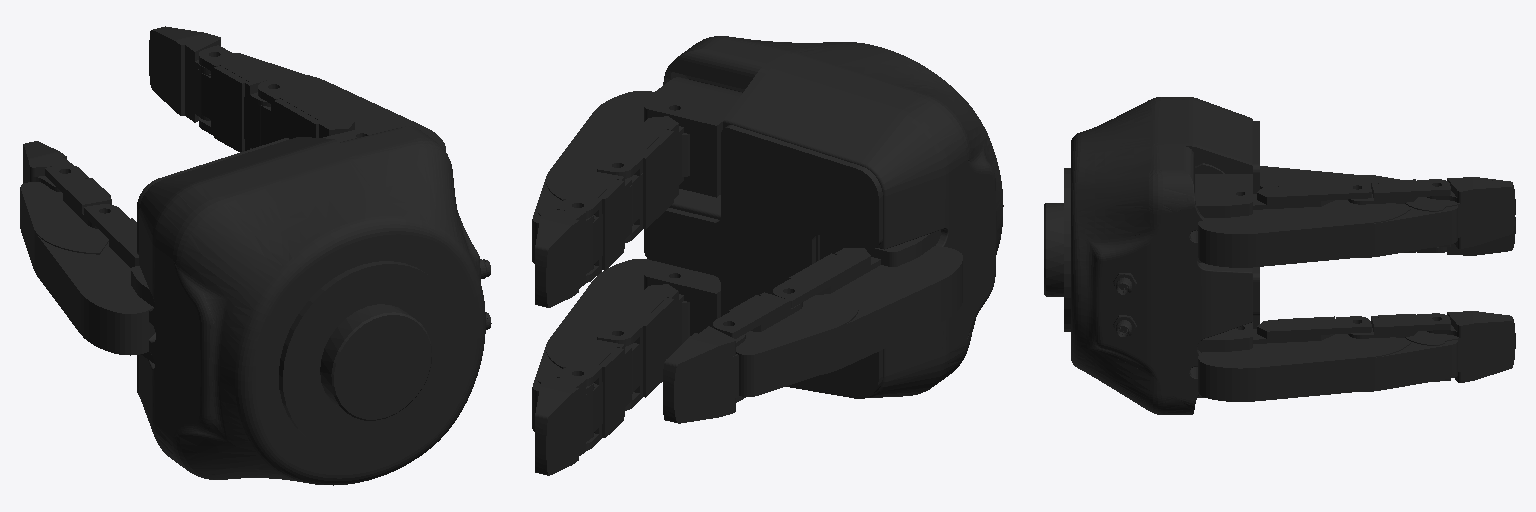
--- Facts derived from the render (not from the file) ---
Views: 3 orthographic renders of the robot side by side, from view 1: azimuth 30°, elevation 25°; view 2: azimuth 150°, elevation 25°; view 3: azimuth 270°, elevation 25°.
Model robot with 24 links and 23 joints (17 revolute, 6 fixed), rooted at base_link, posed joints at zero except 6 at the middle of their limits (finger_1_joint_1 = 0.6357, finger_1_joint_3 = -0.637, finger_2_joint_1 = 0.6357, finger_2_joint_3 = -0.637, finger_middle_joint_1 = 0.6357, finger_middle_joint_3 = -0.637).
Visible links, largest first — view 1: palm, finger_middle_link_1, finger_2_link_1, finger_middle_link_2, finger_2_link_2, finger_2_link_3, finger_middle_link_3, finger_middle_link_0; view 2: palm, finger_middle_link_1, finger_2_link_1, finger_1_link_1, finger_middle_link_2, finger_middle_link_3, finger_2_link_0, finger_2_link_3, finger_1_link_3, finger_2_link_2, finger_1_link_2, finger_1_link_0 (+1 smaller); view 3: palm, finger_1_link_1, finger_2_link_1, finger_1_link_2, finger_2_link_2, finger_1_link_3, finger_2_link_3, finger_2_link_0, finger_middle_link_1, finger_1_link_0, finger_middle_link_3, finger_middle_link_2.
Link boxes in pixels (x1,y1,x2,y2): palm: [137, 126, 491, 485]; finger_middle_link_1: [36, 204, 155, 355]; finger_2_link_1: [258, 71, 445, 150]; finger_middle_link_2: [20, 164, 111, 275]; finger_2_link_2: [199, 45, 301, 151]; finger_2_link_3: [149, 26, 259, 122]; finger_middle_link_3: [23, 141, 72, 191]; finger_middle_link_0: [131, 266, 155, 363]; palm: [644, 36, 1003, 398]; finger_middle_link_1: [773, 246, 962, 374]; finger_2_link_1: [546, 91, 689, 242]; finger_1_link_1: [546, 259, 689, 410]; finger_middle_link_2: [713, 292, 858, 402]; finger_middle_link_3: [663, 326, 745, 423]; finger_2_link_0: [644, 77, 742, 197]; finger_2_link_3: [535, 201, 594, 307]; finger_1_link_3: [535, 369, 594, 475]; finger_2_link_2: [532, 171, 632, 282]; finger_1_link_2: [532, 339, 632, 450]; finger_1_link_0: [644, 261, 720, 335]; palm: [1044, 97, 1259, 414]; finger_1_link_1: [1198, 316, 1410, 401]; finger_2_link_1: [1198, 182, 1410, 267]; finger_1_link_2: [1348, 313, 1457, 391]; finger_2_link_2: [1348, 179, 1457, 257]; finger_1_link_3: [1405, 311, 1515, 382]; finger_2_link_3: [1405, 177, 1515, 248]; finger_2_link_0: [1190, 174, 1252, 262]; finger_middle_link_1: [1260, 166, 1370, 188]; finger_1_link_0: [1190, 322, 1252, 397]; finger_middle_link_3: [1447, 217, 1515, 255]; finger_middle_link_2: [1322, 175, 1446, 252].
Bounding box of the posed robot: 0.1575 × 0.2291 × 0.1302 m (x, y, z).
13 mesh visuals loaded from 12 distinct referenced files (5 Collada DAE); not drawn: 7 (reference not matched to a file when rendering).

robot.urdf — robot:
<?xml version="1.0" ?>
<!-- =================================================================================== -->
<!-- |    This document was autogenerated by xacro from test.xacro                     | -->
<!-- |    EDITING THIS FILE BY HAND IS NOT RECOMMENDED                                 | -->
<!-- =================================================================================== -->
<robot>
  <!-- Custom mix of ur5e robot and robotiq 3f gripper for Webots.
      Based on https://github.com/UniversalRobots/Universal_Robots_ROS2_Driver
      and https://github.com/ros-industrial/robotiq.
    -->
  <webots>
    <plugin type="webots_ros2_control::Ros2Control"/>
  </webots>
  <!--
    NOTE the macro defined in this file is NOT part of the public API of this
          package. Users CANNOT rely on this file being available, or stored in
          this location. Nor can they rely on the existence of the macro.
  -->
  <!-- Data files required by the UR driver -->
  <ros2_control name="WebotsControl" type="system">
    <hardware>
      <plugin>webots_ros2_control::Ros2ControlSystem</plugin>
    </hardware>
    <joint name="shoulder_pan_joint">
      <command_interface name="position">
        </command_interface>
      <state_interface name="position"/>
      <state_interface name="velocity"/>
      <state_interface name="effort"/>
      <param name="initial_position">0.0</param>
      <!-- initial position for the FakeSystem -->
    </joint>
    <joint name="shoulder_lift_joint">
      <command_interface name="position">
        </command_interface>
      <state_interface name="position"/>
      <state_interface name="velocity"/>
      <state_interface name="effort"/>
      <param name="initial_position">-1.57</param>
      <!-- initial position for the FakeSystem -->
    </joint>
    <joint name="elbow_joint">
      <command_interface name="position">
        </command_interface>
      <state_interface name="position"/>
      <state_interface name="velocity"/>
      <state_interface name="effort"/>
      <param name="initial_position">0.0</param>
      <!-- initial position for the FakeSystem -->
    </joint>
    <joint name="wrist_1_joint">
      <command_interface name="position">
        </command_interface>
      <state_interface name="position"/>
      <state_interface name="velocity"/>
      <state_interface name="effort"/>
      <param name="initial_position">-1.57</param>
      <!-- initial position for the FakeSystem -->
    </joint>
    <joint name="wrist_2_joint">
      <command_interface name="position">
        </command_interface>
      <state_interface name="position"/>
      <state_interface name="velocity"/>
      <state_interface name="effort"/>
      <param name="initial_position">0.0</param>
      <!-- initial position for the FakeSystem -->
    </joint>
    <joint name="wrist_3_joint">
      <command_interface name="position">
        </command_interface>
      <state_interface name="position"/>
      <state_interface name="velocity"/>
      <state_interface name="effort"/>
      <param name="initial_position">0.0</param>
      <!-- initial position for the FakeSystem -->
    </joint>
    <sensor name="tcp_fts_sensor">
      <state_interface name="force.x"/>
      <state_interface name="force.y"/>
      <state_interface name="force.z"/>
      <state_interface name="torque.x"/>
      <state_interface name="torque.y"/>
      <state_interface name="torque.z"/>
    </sensor>
    <!-- ROBOTIQ 3F Gripper -->
    <joint name="palm_finger_1_joint">
      <state_interface name="position"/>
      <command_interface name="position"/>
    </joint>
    <joint name="finger_1_joint_1">
      <state_interface name="position"/>
      <command_interface name="position"/>
    </joint>
    <joint name="finger_1_joint_2">
      <state_interface name="position"/>
      <command_interface name="position"/>
    </joint>
    <joint name="finger_1_joint_3">
      <state_interface name="position"/>
      <command_interface name="position"/>
    </joint>
    <joint name="palm_finger_2_joint">
      <state_interface name="position"/>
      <command_interface name="position"/>
    </joint>
    <joint name="finger_2_joint_1">
      <state_interface name="position"/>
      <command_interface name="position"/>
    </joint>
    <joint name="finger_2_joint_2">
      <state_interface name="position"/>
      <command_interface name="position"/>
    </joint>
    <joint name="finger_2_joint_3">
      <state_interface name="position"/>
      <command_interface name="position"/>
    </joint>
    <joint name="finger_middle_joint_1">
      <state_interface name="position"/>
      <command_interface name="position"/>
    </joint>
    <joint name="finger_middle_joint_2">
      <state_interface name="position"/>
      <command_interface name="position"/>
    </joint>
    <joint name="finger_middle_joint_3">
      <state_interface name="position"/>
      <command_interface name="position"/>
    </joint>
  </ros2_control>
  <!-- Add URDF transmission elements (for ros_control) -->
  <!--<xacro:ur_arm_transmission prefix="${prefix}" hw_interface="${transmission_hw_interface}" />-->
  <!-- Placeholder for ros2_control transmission which don't yet exist -->
  <!-- links -  main serial chain -->
  <link name="base_link"/>
  <link name="base_link_inertia">
    <visual>
      <origin rpy="0 0 3.141592653589793" xyz="0 0 0"/>
      <geometry>
        <mesh filename="package://resource/Universal_Robots_ROS2_Driver/ur_description/meshes/ur5e/visual/base.dae"/>
      </geometry>
      <material name="LightGrey">
        <color rgba="0.7 0.7 0.7 1.0"/>
      </material>
    </visual>
    <collision>
      <origin rpy="0 0 3.141592653589793" xyz="0 0 0"/>
      <geometry>
        <mesh filename="package://resource/Universal_Robots_ROS2_Driver/ur_description/meshes/ur5e/collision/base.stl"/>
      </geometry>
    </collision>
    <inertial>
      <mass value="4.0"/>
      <origin rpy="0 0 0" xyz="0 0 0"/>
      <inertia ixx="0.00443333156" ixy="0.0" ixz="0.0" iyy="0.00443333156" iyz="0.0" izz="0.0072"/>
    </inertial>
  </link>
  <link name="shoulder_link">
    <visual>
      <origin rpy="0 0 3.141592653589793" xyz="0 0 0"/>
      <geometry>
        <mesh filename="package://resource/Universal_Robots_ROS2_Driver/ur_description/meshes/ur5e/visual/shoulder.dae"/>
      </geometry>
      <material name="LightGrey">
        <color rgba="0.7 0.7 0.7 1.0"/>
      </material>
    </visual>
    <collision>
      <origin rpy="0 0 3.141592653589793" xyz="0 0 0"/>
      <geometry>
        <mesh filename="package://resource/Universal_Robots_ROS2_Driver/ur_description/meshes/ur5e/collision/shoulder.stl"/>
      </geometry>
    </collision>
    <inertial>
      <mass value="3.7"/>
      <origin rpy="0 0 0" xyz="0 0 0"/>
      <inertia ixx="0.010267495893" ixy="0.0" ixz="0.0" iyy="0.010267495893" iyz="0.0" izz="0.00666"/>
    </inertial>
  </link>
  <link name="upper_arm_link">
    <visual>
      <origin rpy="1.5707963267948966 0 -1.5707963267948966" xyz="0 0 0.138"/>
      <geometry>
        <mesh filename="package://resource/Universal_Robots_ROS2_Driver/ur_description/meshes/ur5e/visual/upperarm.dae"/>
      </geometry>
      <material name="LightGrey">
        <color rgba="0.7 0.7 0.7 1.0"/>
      </material>
    </visual>
    <collision>
      <origin rpy="1.5707963267948966 0 -1.5707963267948966" xyz="0 0 0.138"/>
      <geometry>
        <mesh filename="package://resource/Universal_Robots_ROS2_Driver/ur_description/meshes/ur5e/collision/upperarm.stl"/>
      </geometry>
    </collision>
    <inertial>
      <mass value="8.393"/>
      <origin rpy="0 1.5707963267948966 0" xyz="-0.2125 0.0 0.138"/>
      <inertia ixx="0.1338857818623325" ixy="0.0" ixz="0.0" iyy="0.1338857818623325" iyz="0.0" izz="0.0151074"/>
    </inertial>
  </link>
  <link name="forearm_link">
    <visual>
      <origin rpy="1.5707963267948966 0 -1.5707963267948966" xyz="0 0 0.007"/>
      <geometry>
        <mesh filename="package://resource/Universal_Robots_ROS2_Driver/ur_description/meshes/ur5e/visual/forearm.dae"/>
      </geometry>
      <material name="LightGrey">
        <color rgba="0.7 0.7 0.7 1.0"/>
      </material>
    </visual>
    <collision>
      <origin rpy="1.5707963267948966 0 -1.5707963267948966" xyz="0 0 0.007"/>
      <geometry>
        <mesh filename="package://resource/Universal_Robots_ROS2_Driver/ur_description/meshes/ur5e/collision/forearm.stl"/>
      </geometry>
    </collision>
    <inertial>
      <mass value="2.275"/>
      <origin rpy="0 1.5707963267948966 0" xyz="-0.1961 0.0 0.007"/>
      <inertia ixx="0.031209355099586295" ixy="0.0" ixz="0.0" iyy="0.031209355099586295" iyz="0.0" izz="0.004095"/>
    </inertial>
  </link>
  <link name="wrist_1_link">
    <visual>
      <origin rpy="1.5707963267948966 0 0" xyz="0 0 -0.127"/>
      <geometry>
        <mesh filename="package://resource/Universal_Robots_ROS2_Driver/ur_description/meshes/ur5e/visual/wrist1.dae"/>
      </geometry>
      <material name="LightGrey">
        <color rgba="0.7 0.7 0.7 1.0"/>
      </material>
    </visual>
    <collision>
      <origin rpy="1.5707963267948966 0 0" xyz="0 0 -0.127"/>
      <geometry>
        <mesh filename="package://resource/Universal_Robots_ROS2_Driver/ur_description/meshes/ur5e/collision/wrist1.stl"/>
      </geometry>
    </collision>
    <inertial>
      <mass value="1.219"/>
      <origin rpy="0 0 0" xyz="0 0 0"/>
      <inertia ixx="0.0025598989760400002" ixy="0.0" ixz="0.0" iyy="0.0025598989760400002" iyz="0.0" izz="0.0021942"/>
    </inertial>
  </link>
  <link name="wrist_2_link">
    <visual>
      <origin rpy="0 0 0" xyz="0 0 -0.0997"/>
      <geometry>
        <mesh filename="package://resource/Universal_Robots_ROS2_Driver/ur_description/meshes/ur5e/visual/wrist2.dae"/>
      </geometry>
      <material name="LightGrey">
        <color rgba="0.7 0.7 0.7 1.0"/>
      </material>
    </visual>
    <collision>
      <origin rpy="0 0 0" xyz="0 0 -0.0997"/>
      <geometry>
        <mesh filename="package://resource/Universal_Robots_ROS2_Driver/ur_description/meshes/ur5e/collision/wrist2.stl"/>
      </geometry>
    </collision>
    <inertial>
      <mass value="1.219"/>
      <origin rpy="0 0 0" xyz="0 0 0"/>
      <inertia ixx="0.0025598989760400002" ixy="0.0" ixz="0.0" iyy="0.0025598989760400002" iyz="0.0" izz="0.0021942"/>
    </inertial>
  </link>
  <link name="wrist_3_link">
    <visual>
      <origin rpy="1.5707963267948966 0 0" xyz="0 0 -0.0989"/>
      <geometry>
        <mesh filename="package://resource/Universal_Robots_ROS2_Driver/ur_description/meshes/ur5e/visual/wrist3.dae"/>
      </geometry>
      <material name="LightGrey">
        <color rgba="0.7 0.7 0.7 1.0"/>
      </material>
    </visual>
    <collision>
      <origin rpy="1.5707963267948966 0 0" xyz="0 0 -0.0989"/>
      <geometry>
        <mesh filename="package://resource/Universal_Robots_ROS2_Driver/ur_description/meshes/ur5e/collision/wrist3.stl"/>
      </geometry>
    </collision>
    <inertial>
      <mass value="0.1879"/>
      <origin rpy="0 0 0" xyz="0.0 0.0 -0.0229"/>
      <inertia ixx="9.890410052167731e-05" ixy="0.0" ixz="0.0" iyy="9.890410052167731e-05" iyz="0.0" izz="0.0001321171875"/>
    </inertial>
  </link>
  <!-- joints - main serial chain -->
  <joint name="base_link-base_link_inertia" type="fixed">
    <parent link="base_link"/>
    <child link="base_link_inertia"/>
    <!-- 'base_link' is REP-103 aligned (so X+ forward), while the internal
           frames of the robot/controller have X+ pointing backwards.
           Use the joint between 'base_link' and 'base_link_inertia' (a dummy
           link/frame) to introduce the necessary rotation over Z (of pi rad).
      -->
    <origin rpy="0 0 3.141592653589793" xyz="0 0 0"/>
  </joint>
  <joint name="shoulder_pan_joint" type="revolute">
    <parent link="base_link_inertia"/>
    <child link="shoulder_link"/>
    <origin rpy="0 0 0" xyz="0 0 0.1625"/>
    <axis xyz="0 0 1"/>
    <limit effort="150.0" lower="-6.283185307179586" upper="6.283185307179586" velocity="3.141592653589793"/>
    <dynamics damping="0" friction="0"/>
  </joint>
  <joint name="shoulder_lift_joint" type="revolute">
    <parent link="shoulder_link"/>
    <child link="upper_arm_link"/>
    <origin rpy="1.570796327 0 0" xyz="0 0 0"/>
    <axis xyz="0 0 1"/>
    <limit effort="150.0" lower="-6.283185307179586" upper="6.283185307179586" velocity="3.141592653589793"/>
    <dynamics damping="0" friction="0"/>
  </joint>
  <joint name="elbow_joint" type="revolute">
    <parent link="upper_arm_link"/>
    <child link="forearm_link"/>
    <origin rpy="0 0 0" xyz="-0.425 0 0"/>
    <axis xyz="0 0 1"/>
    <limit effort="150.0" lower="-3.141592653589793" upper="3.141592653589793" velocity="3.141592653589793"/>
    <dynamics damping="0" friction="0"/>
  </joint>
  <joint name="wrist_1_joint" type="revolute">
    <parent link="forearm_link"/>
    <child link="wrist_1_link"/>
    <origin rpy="0 0 0" xyz="-0.3922 0 0.1333"/>
    <axis xyz="0 0 1"/>
    <limit effort="28.0" lower="-6.283185307179586" upper="6.283185307179586" velocity="3.141592653589793"/>
    <dynamics damping="0" friction="0"/>
  </joint>
  <joint name="wrist_2_joint" type="revolute">
    <parent link="wrist_1_link"/>
    <child link="wrist_2_link"/>
    <origin rpy="1.570796327 0 0" xyz="0 -0.0997 -2.044881182297852e-11"/>
    <axis xyz="0 0 1"/>
    <limit effort="28.0" lower="-6.283185307179586" upper="6.283185307179586" velocity="3.141592653589793"/>
    <dynamics damping="0" friction="0"/>
  </joint>
  <joint name="wrist_3_joint" type="revolute">
    <parent link="wrist_2_link"/>
    <child link="wrist_3_link"/>
    <origin rpy="1.570796326589793 3.141592653589793 3.141592653589793" xyz="0 0.0996 -2.042830148012698e-11"/>
    <axis xyz="0 0 1"/>
    <limit effort="28.0" lower="-6.283185307179586" upper="6.283185307179586" velocity="3.141592653589793"/>
    <dynamics damping="0" friction="0"/>
  </joint>
  <!-- ROS-Industrial 'base' frame - base_link to UR 'Base' Coordinates transform -->
  <link name="base"/>
  <joint name="base_link-base_fixed_joint" type="fixed">
    <!-- Note the rotation over Z of pi radians - as base_link is REP-103
           aligned (i.e., has X+ forward, Y+ left and Z+ up), this is needed
           to correctly align 'base' with the 'Base' coordinate system of
           the UR controller.
      -->
    <origin rpy="0 0 3.141592653589793" xyz="0 0 0"/>
    <parent link="base_link"/>
    <child link="base"/>
  </joint>
  <!-- ROS-Industrial 'flange' frame - attachment point for EEF models -->
  <link name="flange"/>
  <joint name="wrist_3-flange" type="fixed">
    <parent link="wrist_3_link"/>
    <child link="flange"/>
    <origin rpy="0 -1.5707963267948966 -1.5707963267948966" xyz="0 0 0"/>
  </joint>
  <!-- ROS-Industrial 'tool0' frame - all-zeros tool frame -->
  <link name="tool0"/>
  <joint name="flange-tool0" type="fixed">
    <!-- default toolframe - X+ left, Y+ up, Z+ front -->
    <origin rpy="1.5707963267948966 0 1.5707963267948966" xyz="0 0 0"/>
    <parent link="flange"/>
    <child link="tool0"/>
  </joint>
  <!-- link list -->
  <link name="finger_1_link_0">
    <visual>
      <origin rpy="0 0 0" xyz="0.020 0 0"/>
      <geometry>
        <mesh filename="package://resource/robotiq/robotiq_3f_gripper_visualization/meshes/robotiq-3f-gripper_articulated/visual/link_0.dae"/>
      </geometry>
      <material name="gray">
        <color rgba="0.2 0.2 0.2 1"/>
      </material>
    </visual>
    <collision>
      <origin rpy="0 0 0" xyz="0.020 0 0"/>
      <geometry>
        <mesh filename="package://resource/robotiq/robotiq_3f_gripper_visualization/meshes/robotiq-3f-gripper_articulated/collision/link_0.STL"/>
      </geometry>
      <material name="yellow">
        <color rgba="0 1 1 1"/>
      </material>
    </collision>
    <inertial>
      <origin rpy="0 0 0" xyz="0 0 0"/>
      <mass value="0.05"/>
      <inertia ixx="0.01" ixy="-0.00002" ixz="0.00001" iyy="0.0008" iyz="0" izz="0.001"/>
    </inertial>
  </link>
  <link name="finger_1_link_1">
    <visual>
      <origin rpy="0 0 -0.52" xyz="0.050 -.028 0"/>
      <geometry>
        <mesh filename="package://resource/robotiq/robotiq_3f_gripper_visualization/meshes/robotiq-3f-gripper_articulated/visual/link_1.dae"/>
      </geometry>
      <material name="gray"/>
    </visual>
    <collision>
      <origin rpy="0 0 -0.52" xyz="0.050 -.028 0"/>
      <geometry>
        <mesh filename="package://resource/robotiq/robotiq_3f_gripper_visualization/meshes/robotiq-3f-gripper_articulated/collision/link_1.STL"/>
      </geometry>
      <material name="yellow"/>
    </collision>
    <inertial>
      <origin rpy="0 0 0" xyz="0 0 0"/>
      <mass value="0.15"/>
      <inertia ixx="0.001859" ixy="-0.000376" ixz="0.000028" iyy="0.012756" iyz="0" izz="0.0024"/>
    </inertial>
  </link>
  <link name="finger_1_link_2">
    <!--
			NOTE: This link has an offset in the z-direction based on the models that were
			used to generate grap-it poses.  With the offset below the model appears visually
			correct, but it is suspect.
			-->
    <visual>
      <origin rpy="0 0 0" xyz="0.039 0 0.0075"/>
      <geometry>
        <mesh filename="package://resource/robotiq/robotiq_3f_gripper_visualization/meshes/robotiq-3f-gripper_articulated/visual/link_2.dae"/>
      </geometry>
      <material name="gray"/>
    </visual>
    <collision>
      <origin rpy="0 0 0" xyz="0.039 0 0.0075"/>
      <geometry>
        <mesh filename="package://resource/robotiq/robotiq_3f_gripper_visualization/meshes/robotiq-3f-gripper_articulated/collision/link_2.STL"/>
      </geometry>
      <material name="yellow"/>
    </collision>
    <inertial>
      <origin rpy="0 0 0" xyz="0 0 0"/>
      <mass value="0.15"/>
      <inertia ixx="0.001859" ixy="-0.000376" ixz="0.000028" iyy="0.012756" iyz="0" izz="0.0024"/>
    </inertial>
  </link>
  <link name="finger_1_link_3">
    <visual>
      <origin rpy="0 0 0.52" xyz="0 0 0"/>
      <geometry>
        <mesh filename="package://resource/robotiq/robotiq_3f_gripper_visualization/meshes/robotiq-3f-gripper_articulated/visual/link_3.dae"/>
      </geometry>
      <material name="gray"/>
    </visual>
    <collision>
      <origin rpy="0 0 0.52" xyz="0 0 0"/>
      <geometry>
        <mesh filename="package://resource/robotiq/robotiq_3f_gripper_visualization/meshes/robotiq-3f-gripper_articulated/collision/link_3.STL"/>
      </geometry>
      <material name="yellow"/>
    </collision>
    <inertial>
      <origin rpy="0 0 0" xyz="0 0 0"/>
      <mass value="0.05"/>
      <inertia ixx="0.001239" ixy="-0.000251" ixz="0.000019" iyy="0.00085" iyz="0" izz="0.001632"/>
    </inertial>
  </link>
  <!-- end of link list -->
  <!-- joint list -->
  <joint name="finger_1_joint_1" type="revolute">
    <parent link="finger_1_link_0"/>
    <child link="finger_1_link_1"/>
    <axis xyz="0 0 1"/>
    <origin rpy="0 0 0" xyz="0.020 0 0"/>
    <limit effort="100" lower="0.0495" upper="1.2218" velocity="100"/>
  </joint>
  <joint name="finger_1_joint_2" type="revolute">
    <parent link="finger_1_link_1"/>
    <child link="finger_1_link_2"/>
    <axis xyz="0 0 1"/>
    <origin rpy="0 0 -0.52" xyz="0.050 -.028 0"/>
    <limit effort="100" lower="0.0" upper="1.5708" velocity="100"/>
  </joint>
  <joint name="finger_1_joint_3" type="revolute">
    <parent link="finger_1_link_2"/>
    <child link="finger_1_link_3"/>
    <axis xyz="0 0 1"/>
    <origin rpy="0 0 0" xyz="0.039 0 0"/>
    <limit effort="100" lower="-1.2217" upper="-0.0523" velocity="100"/>
  </joint>
  <!-- end of joint list -->
  <!-- link list -->
  <link name="finger_2_link_0">
    <visual>
      <origin rpy="0 0 0" xyz="0.020 0 0"/>
      <geometry>
        <mesh filename="package://resource/robotiq/robotiq_3f_gripper_visualization/meshes/robotiq-3f-gripper_articulated/visual/link_0.dae"/>
      </geometry>
      <material name="gray">
        <color rgba="0.2 0.2 0.2 1"/>
      </material>
    </visual>
    <collision>
      <origin rpy="0 0 0" xyz="0.020 0 0"/>
      <geometry>
        <mesh filename="package://resource/robotiq/robotiq_3f_gripper_visualization/meshes/robotiq-3f-gripper_articulated/collision/link_0.STL"/>
      </geometry>
      <material name="yellow">
        <color rgba="0 1 1 1"/>
      </material>
    </collision>
    <inertial>
      <origin rpy="0 0 0" xyz="0 0 0"/>
      <mass value="0.05"/>
      <inertia ixx="0.01" ixy="-0.00002" ixz="0.00001" iyy="0.0008" iyz="0" izz="0.001"/>
    </inertial>
  </link>
  <link name="finger_2_link_1">
    <visual>
      <origin rpy="0 0 -0.52" xyz="0.050 -.028 0"/>
      <geometry>
        <mesh filename="package://resource/robotiq/robotiq_3f_gripper_visualization/meshes/robotiq-3f-gripper_articulated/visual/link_1.dae"/>
      </geometry>
      <material name="gray"/>
    </visual>
    <collision>
      <origin rpy="0 0 -0.52" xyz="0.050 -.028 0"/>
      <geometry>
        <mesh filename="package://resource/robotiq/robotiq_3f_gripper_visualization/meshes/robotiq-3f-gripper_articulated/collision/link_1.STL"/>
      </geometry>
      <material name="yellow"/>
    </collision>
    <inertial>
      <origin rpy="0 0 0" xyz="0 0 0"/>
      <mass value="0.15"/>
      <inertia ixx="0.001859" ixy="-0.000376" ixz="0.000028" iyy="0.012756" iyz="0" izz="0.0024"/>
    </inertial>
  </link>
  <link name="finger_2_link_2">
    <!--
			NOTE: This link has an offset in the z-direction based on the models that were
			used to generate grap-it poses.  With the offset below the model appears visually
			correct, but it is suspect.
			-->
    <visual>
      <origin rpy="0 0 0" xyz="0.039 0 0.0075"/>
      <geometry>
        <mesh filename="package://resource/robotiq/robotiq_3f_gripper_visualization/meshes/robotiq-3f-gripper_articulated/visual/link_2.dae"/>
      </geometry>
      <material name="gray"/>
    </visual>
    <collision>
      <origin rpy="0 0 0" xyz="0.039 0 0.0075"/>
      <geometry>
        <mesh filename="package://resource/robotiq/robotiq_3f_gripper_visualization/meshes/robotiq-3f-gripper_articulated/collision/link_2.STL"/>
      </geometry>
      <material name="yellow"/>
    </collision>
    <inertial>
      <origin rpy="0 0 0" xyz="0 0 0"/>
      <mass value="0.15"/>
      <inertia ixx="0.001859" ixy="-0.000376" ixz="0.000028" iyy="0.012756" iyz="0" izz="0.0024"/>
    </inertial>
  </link>
  <link name="finger_2_link_3">
    <visual>
      <origin rpy="0 0 0.52" xyz="0 0 0"/>
      <geometry>
        <mesh filename="package://resource/robotiq/robotiq_3f_gripper_visualization/meshes/robotiq-3f-gripper_articulated/visual/link_3.dae"/>
      </geometry>
      <material name="gray"/>
    </visual>
    <collision>
      <origin rpy="0 0 0.52" xyz="0 0 0"/>
      <geometry>
        <mesh filename="package://resource/robotiq/robotiq_3f_gripper_visualization/meshes/robotiq-3f-gripper_articulated/collision/link_3.STL"/>
      </geometry>
      <material name="yellow"/>
    </collision>
    <inertial>
      <origin rpy="0 0 0" xyz="0 0 0"/>
      <mass value="0.05"/>
      <inertia ixx="0.001239" ixy="-0.000251" ixz="0.000019" iyy="0.00085" iyz="0" izz="0.001632"/>
    </inertial>
  </link>
  <!-- end of link list -->
  <!-- joint list -->
  <joint name="finger_2_joint_1" type="revolute">
    <parent link="finger_2_link_0"/>
    <child link="finger_2_link_1"/>
    <axis xyz="0 0 1"/>
    <origin rpy="0 0 0" xyz="0.020 0 0"/>
    <limit effort="100" lower="0.0495" upper="1.2218" velocity="100"/>
  </joint>
  <joint name="finger_2_joint_2" type="revolute">
    <parent link="finger_2_link_1"/>
    <child link="finger_2_link_2"/>
    <axis xyz="0 0 1"/>
    <origin rpy="0 0 -0.52" xyz="0.050 -.028 0"/>
    <limit effort="100" lower="0.0" upper="1.5708" velocity="100"/>
  </joint>
  <joint name="finger_2_joint_3" type="revolute">
    <parent link="finger_2_link_2"/>
    <child link="finger_2_link_3"/>
    <axis xyz="0 0 1"/>
    <origin rpy="0 0 0" xyz="0.039 0 0"/>
    <limit effort="100" lower="-1.2217" upper="-0.0523" velocity="100"/>
  </joint>
  <!-- end of joint list -->
  <!-- link list -->
  <link name="finger_middle_link_0">
    <visual>
      <origin rpy="0 0 0" xyz="0.020 0 0"/>
      <geometry>
        <mesh filename="package://resource/robotiq/robotiq_3f_gripper_visualization/meshes/robotiq-3f-gripper_articulated/visual/link_0.dae"/>
      </geometry>
      <material name="gray">
        <color rgba="0.2 0.2 0.2 1"/>
      </material>
    </visual>
    <collision>
      <origin rpy="0 0 0" xyz="0.020 0 0"/>
      <geometry>
        <mesh filename="package://resource/robotiq/robotiq_3f_gripper_visualization/meshes/robotiq-3f-gripper_articulated/collision/link_0.STL"/>
      </geometry>
      <material name="yellow">
        <color rgba="0 1 1 1"/>
      </material>
    </collision>
    <inertial>
      <origin rpy="0 0 0" xyz="0 0 0"/>
      <mass value="0.05"/>
      <inertia ixx="0.01" ixy="-0.00002" ixz="0.00001" iyy="0.0008" iyz="0" izz="0.001"/>
    </inertial>
  </link>
  <link name="finger_middle_link_1">
    <visual>
      <origin rpy="0 0 -0.52" xyz="0.050 -.028 0"/>
      <geometry>
        <mesh filename="package://resource/robotiq/robotiq_3f_gripper_visualization/meshes/robotiq-3f-gripper_articulated/visual/link_1.dae"/>
      </geometry>
      <material name="gray"/>
    </visual>
    <collision>
      <origin rpy="0 0 -0.52" xyz="0.050 -.028 0"/>
      <geometry>
        <mesh filename="package://resource/robotiq/robotiq_3f_gripper_visualization/meshes/robotiq-3f-gripper_articulated/collision/link_1.STL"/>
      </geometry>
      <material name="yellow"/>
    </collision>
    <inertial>
      <origin rpy="0 0 0" xyz="0 0 0"/>
      <mass value="0.15"/>
      <inertia ixx="0.001859" ixy="-0.000376" ixz="0.000028" iyy="0.012756" iyz="0" izz="0.0024"/>
    </inertial>
  </link>
  <link name="finger_middle_link_2">
    <!--
			NOTE: This link has an offset in the z-direction based on the models that were
			used to generate grap-it poses.  With the offset below the model appears visually
			correct, but it is suspect.
			-->
    <visual>
      <origin rpy="0 0 0" xyz="0.039 0 0.0075"/>
      <geometry>
        <mesh filename="package://resource/robotiq/robotiq_3f_gripper_visualization/meshes/robotiq-3f-gripper_articulated/visual/link_2.dae"/>
      </geometry>
      <material name="gray"/>
    </visual>
    <collision>
      <origin rpy="0 0 0" xyz="0.039 0 0.0075"/>
      <geometry>
        <mesh filename="package://resource/robotiq/robotiq_3f_gripper_visualization/meshes/robotiq-3f-gripper_articulated/collision/link_2.STL"/>
      </geometry>
      <material name="yellow"/>
    </collision>
    <inertial>
      <origin rpy="0 0 0" xyz="0 0 0"/>
      <mass value="0.15"/>
      <inertia ixx="0.001859" ixy="-0.000376" ixz="0.000028" iyy="0.012756" iyz="0" izz="0.0024"/>
    </inertial>
  </link>
  <link name="finger_middle_link_3">
    <visual>
      <origin rpy="0 0 0.52" xyz="0 0 0"/>
      <geometry>
        <mesh filename="package://resource/robotiq/robotiq_3f_gripper_visualization/meshes/robotiq-3f-gripper_articulated/visual/link_3.dae"/>
      </geometry>
      <material name="gray"/>
    </visual>
    <collision>
      <origin rpy="0 0 0.52" xyz="0 0 0"/>
      <geometry>
        <mesh filename="package://resource/robotiq/robotiq_3f_gripper_visualization/meshes/robotiq-3f-gripper_articulated/collision/link_3.STL"/>
      </geometry>
      <material name="yellow"/>
    </collision>
    <inertial>
      <origin rpy="0 0 0" xyz="0 0 0"/>
      <mass value="0.05"/>
      <inertia ixx="0.001239" ixy="-0.000251" ixz="0.000019" iyy="0.00085" iyz="0" izz="0.001632"/>
    </inertial>
  </link>
  <!-- end of link list -->
  <!-- joint list -->
  <joint name="finger_middle_joint_1" type="revolute">
    <parent link="finger_middle_link_0"/>
    <child link="finger_middle_link_1"/>
    <axis xyz="0 0 1"/>
    <origin rpy="0 0 0" xyz="0.020 0 0"/>
    <limit effort="100" lower="0.0495" upper="1.2218" velocity="100"/>
  </joint>
  <joint name="finger_middle_joint_2" type="revolute">
    <parent link="finger_middle_link_1"/>
    <child link="finger_middle_link_2"/>
    <axis xyz="0 0 1"/>
    <origin rpy="0 0 -0.52" xyz="0.050 -.028 0"/>
    <limit effort="100" lower="0.0" upper="1.5708" velocity="100"/>
  </joint>
  <joint name="finger_middle_joint_3" type="revolute">
    <parent link="finger_middle_link_2"/>
    <child link="finger_middle_link_3"/>
    <axis xyz="0 0 1"/>
    <origin rpy="0 0 0" xyz="0.039 0 0"/>
    <limit effort="100" lower="-1.2217" upper="-0.0523" velocity="100"/>
  </joint>
  <!-- end of joint list -->
  <!-- link list -->
  <link name="palm">
    <visual>
      <geometry>
        <mesh filename="package://resource/robotiq/robotiq_3f_gripper_visualization/meshes/robotiq-3f-gripper_articulated/visual/palm.dae"/>
      </geometry>
      <material name="gray">
        <color rgba="0.2 0.2 0.2 1"/>
      </material>
    </visual>
    <collision>
      <geometry>
        <mesh filename="package://resource/robotiq/robotiq_3f_gripper_visualization/meshes/robotiq-3f-gripper_articulated/collision/palm.STL"/>
      </geometry>
      <material name="yellow">
        <color rgba="0 1 1 1"/>
      </material>
    </collision>
  </link>
  <inertial>
    <origin rpy="0 0 0" xyz="0 0 0"/>
    <mass value="1.3"/>
    <inertia ixx="0.006012" ixy="0.000079" ixz="-0.00024" iyy="0.012892" iyz="0" izz="0.002435"/>
  </inertial>
  <!-- end of link list -->
  <!-- joint list -->
  <joint name="palm_finger_1_joint" type="revolute">
    <parent link="palm"/>
    <child link="finger_1_link_0"/>
    <axis xyz="0 1 0"/>
    <origin rpy="0 3.1416 -1.57" xyz="-0.0455 0.0214 0.036"/>
    <limit effort="100" lower="-0.1784" upper="0.192" velocity="100"/>
  </joint>
  <joint name="palm_finger_2_joint" type="revolute">
    <parent link="palm"/>
    <child link="finger_2_link_0"/>
    <axis xyz="0 1 0"/>
    <origin rpy="0 3.1416 -1.57" xyz="-0.0455 0.0214 -0.036"/>
    <limit effort="100" lower="-0.192" upper="0.1784" velocity="100"/>
  </joint>
  <joint name="palm_finger_middle_joint" type="fixed">
    <parent link="palm"/>
    <child link="finger_middle_link_0"/>
    <axis xyz="0 0 1"/>
    <origin rpy="0 0 1.57" xyz="0.0455 0.0214 0"/>
  </joint>
  <joint name="tool0_palm" type="fixed">
    <parent link="tool0"/>
    <child link="palm"/>
    <origin rpy="1.5708 0 0" xyz="0 0.045 0"/>
  </joint>
  <!-- end of joint list -->
</robot>
